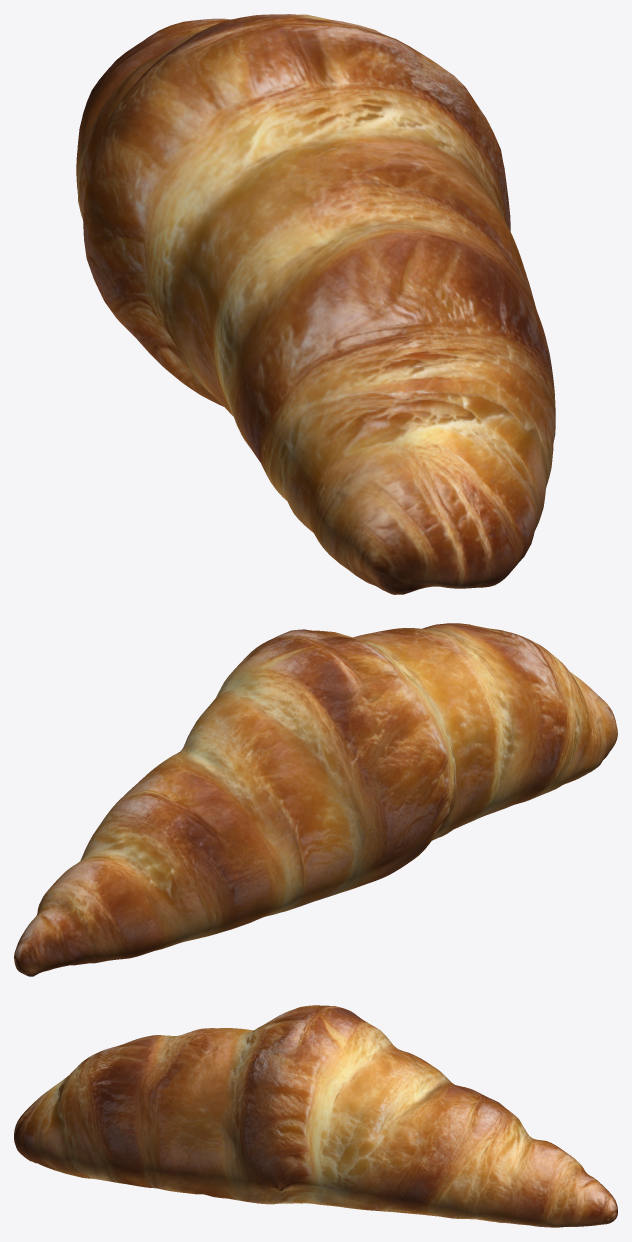
File: croissant.glb
3 renders of one model, top to bottom at view 1: azimuth 30°, elevation 25°; view 2: azimuth 150°, elevation 25°; view 3: azimuth 270°, elevation 25°, orthographic. The views are drawn at different scales.
Size of the model in its own units: 0.7706 by 0.63 by 2.
Materials: 1 (1 with a texture image).
